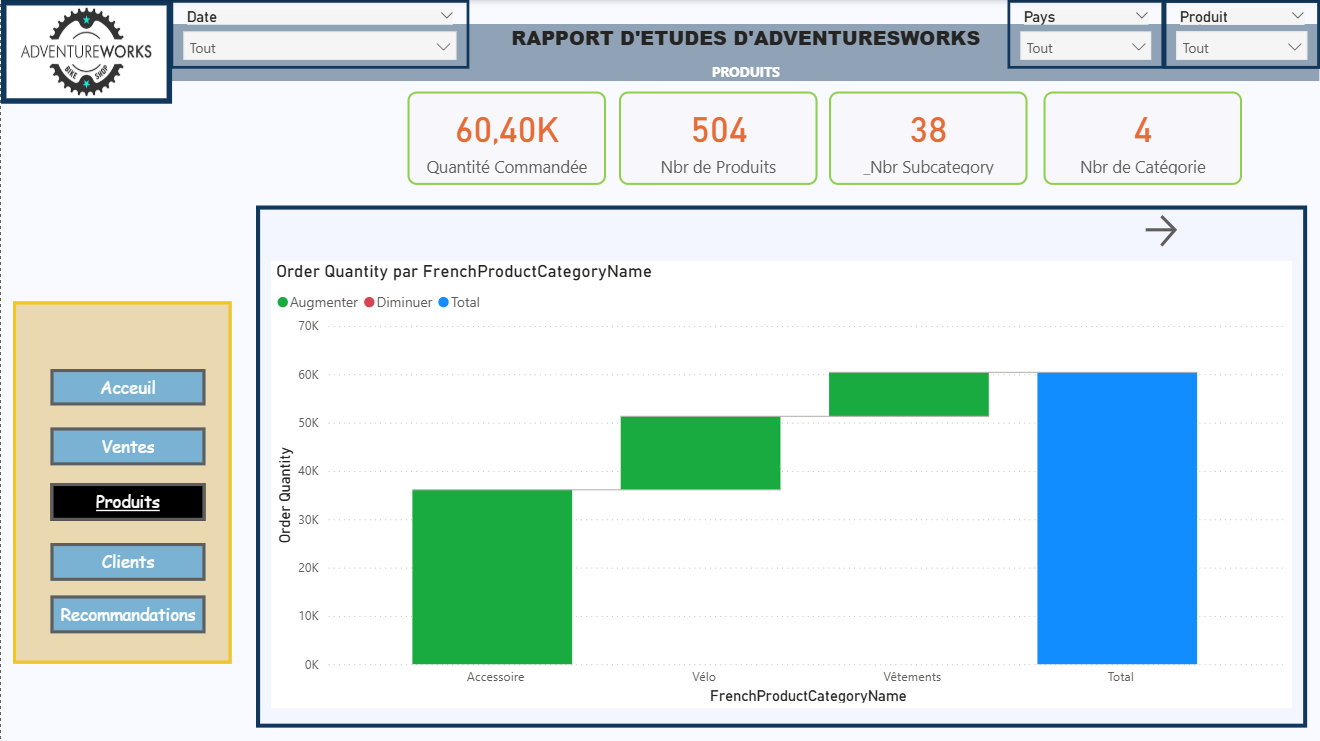

This screenshot's page, from the dashboard's own definition file:
{"tool":"powerbi","page":{"name":"Produit ","canvas":[1280,720],"ordinal":4},"visuals":[{"type":"image","box":[0,0,165.9,100.4],"z":0},{"type":"textbox","title":"RAPPORT D''ETUDES D''ADVENTURESWORKS ","box":[165.9,23.3,1113.5,55.3],"z":1000},{"type":"shape","box":[247.7,199.2,1020.1,506.8],"z":1000,"group":"g2"},{"type":"group","id":"g1","title":"Groupe 1","box":[11.3,293.1,212.1,351.4],"z":2000},{"type":"shape","box":[11.3,293.1,212.1,351.4],"z":2000,"group":"g1"},{"type":"slicer","fields":{"Values":["DimGeography.City"]},"box":[1128.6,0,152.2,66.4],"z":3000},{"type":"slicer","fields":{"Values":["DimGeography.FrenchCountryRegionName"]},"box":[976.4,0,152.2,66.4],"z":4000},{"type":"actionButton","box":[47.7,415.6,150.4,36.7],"z":4000,"group":"g1"},{"type":"slicer","fields":{"Values":["DimProduct.FrenchProductName"]},"box":[1127.8,0,152.2,66.4],"z":5000},{"type":"actionButton","box":[47.7,358.4,150.4,35.4],"z":5000,"group":"g1"},{"type":"slicer","fields":{"Values":["DimDate.FullDateAlternateKey.Variation.Hiérarchie de dates.Année"]},"box":[165.2,0,289.8,66.4],"z":6000},{"type":"actionButton","box":[47.7,468.7,150.4,36.7],"z":6000,"group":"g1"},{"type":"card","fields":{"Values":["FactInternetSales._Order_Quantity"]},"box":[395.1,89.1,192.7,90.7],"z":7000},{"type":"actionButton","box":[47.7,527.2,150.4,36.7],"z":7000,"group":"g1"},{"type":"card","fields":{"Values":["DimProduct._NbrProduct"]},"box":[599.1,89.1,192.7,90.7],"z":8000},{"type":"waterfallChart","fields":{"Category":["DimProductCategory.FrenchProductCategoryName"],"Y":["FactInternetSales._Order_Quantity"]},"box":[262.7,252.4,991,434],"z":8000,"group":"g2"},{"type":"actionButton","box":[47.7,578.9,150.4,36.7],"z":8000,"group":"g1"},{"type":"card","fields":{"Values":["DimProductCategory._Nbr categorie"]},"box":[1012,89.1,192.7,90.7],"z":9000},{"type":"card","fields":{"Values":["DimProductSubcategory._Nbr Subcategory"]},"box":[803.1,89.1,192.7,90.7],"z":10000},{"type":"group","id":"g2","title":"Groupe 2","box":[247.7,199.2,1020.1,506.8],"z":11000},{"type":"actionButton","box":[1104.3,204,100.4,40.5],"z":12000}]}

Visuals, with their boxes in screenshot pixels (x1, y1, x2, y2), scaled from the page's 1280x720 canvas onto the 1320x741 screenshot:
image: bbox=(0, 0, 171, 103)
"RAPPORT D''ETUDES D''ADVENTURESWORKS " textbox: bbox=(171, 24, 1319, 81)
shape: bbox=(255, 205, 1307, 727)
"Groupe 1" group: bbox=(12, 302, 230, 663)
shape: bbox=(12, 302, 230, 663)
slicer - DimGeography.City: bbox=(1164, 0, 1319, 68)
slicer - DimGeography.FrenchCountryRegionName: bbox=(1007, 0, 1164, 68)
actionButton: bbox=(49, 428, 204, 465)
slicer - DimProduct.FrenchProductName: bbox=(1163, 0, 1319, 68)
actionButton: bbox=(49, 369, 204, 405)
slicer - DimDate.FullDateAlternateKey.Variation.Hiérarchie de dates.Année: bbox=(170, 0, 469, 68)
actionButton: bbox=(49, 482, 204, 520)
card - FactInternetSales._Order_Quantity: bbox=(407, 92, 606, 185)
actionButton: bbox=(49, 543, 204, 580)
card - DimProduct._NbrProduct: bbox=(618, 92, 817, 185)
waterfallChart - DimProductCategory.FrenchProductCategoryName x FactInternetSales._Order_Quantity: bbox=(271, 260, 1293, 706)
actionButton: bbox=(49, 596, 204, 634)
card - DimProductCategory._Nbr categorie: bbox=(1044, 92, 1242, 185)
card - DimProductSubcategory._Nbr Subcategory: bbox=(828, 92, 1027, 185)
"Groupe 2" group: bbox=(255, 205, 1307, 727)
actionButton: bbox=(1139, 210, 1242, 252)
